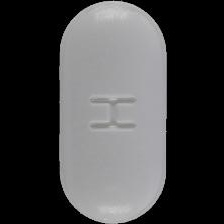50090-1284: (0, 0, 224, 224)
